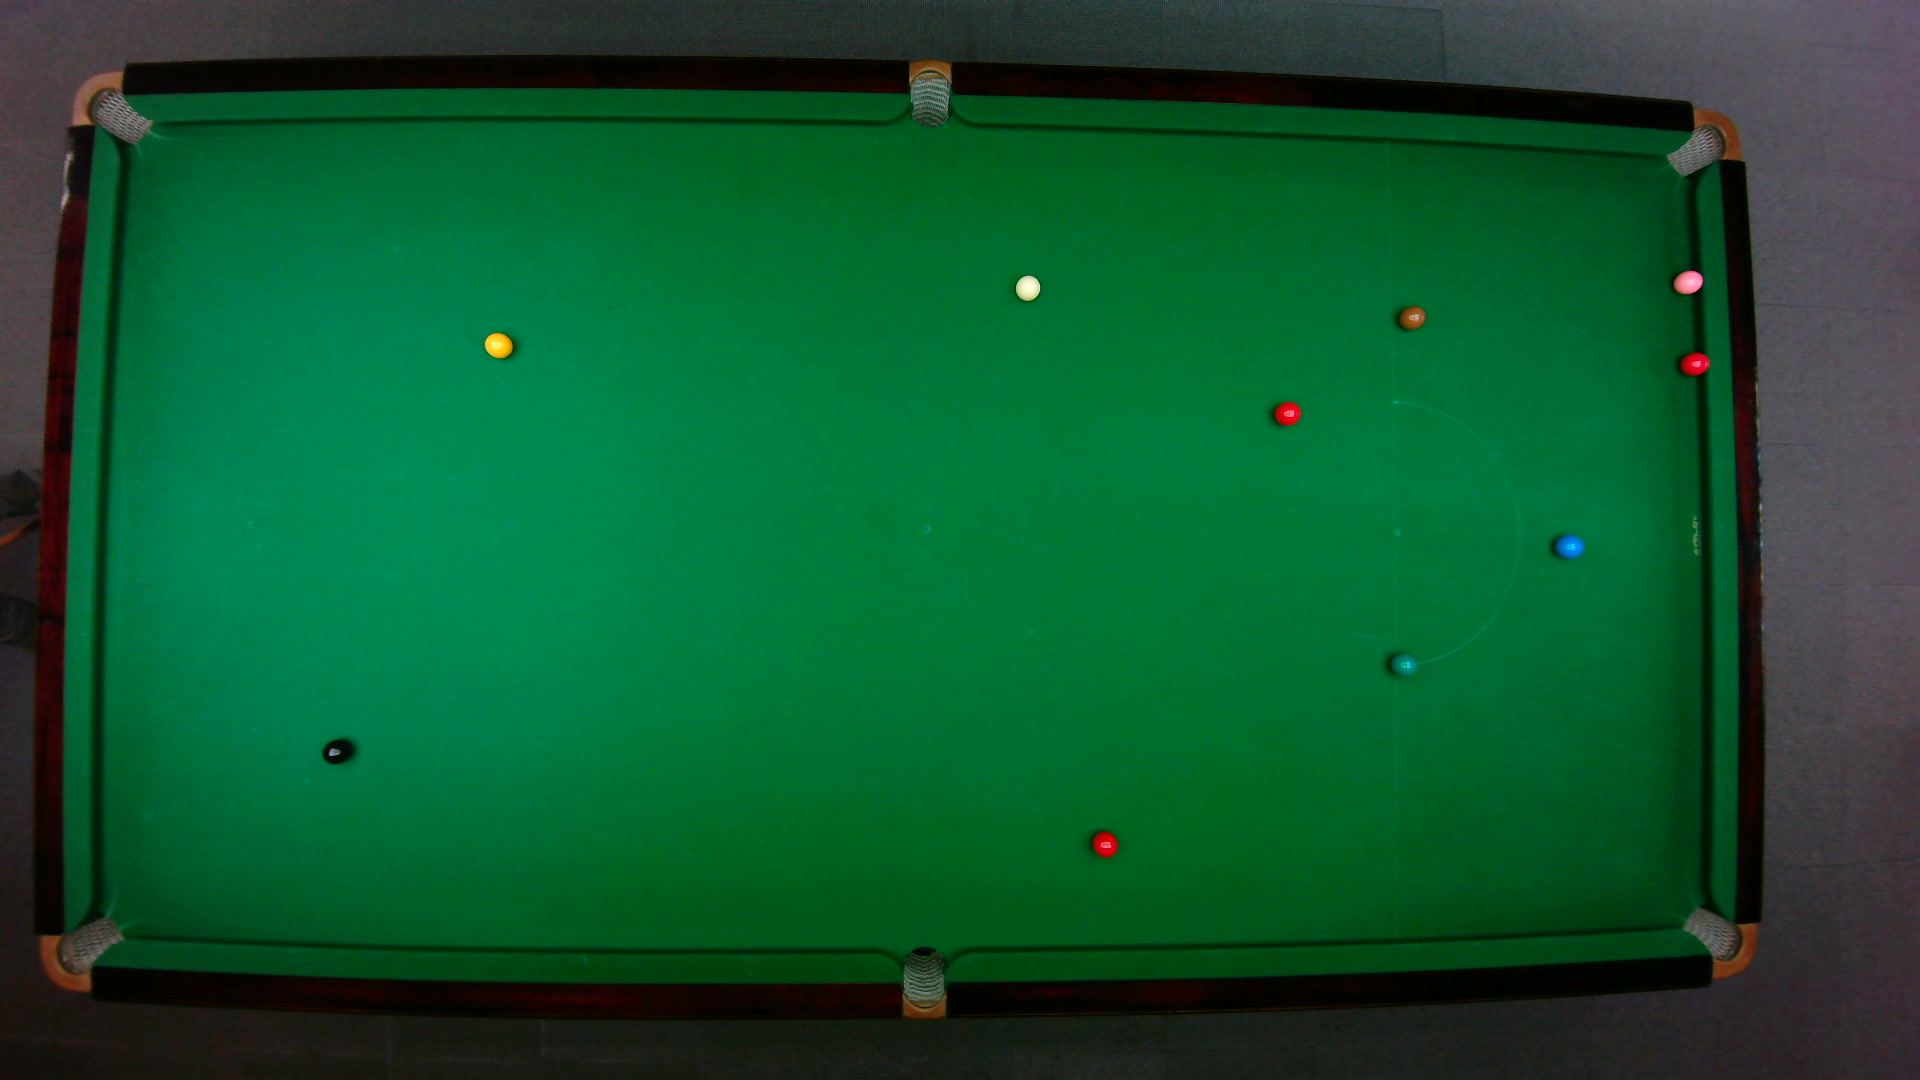bag: (38, 914, 125, 993), (69, 70, 152, 145), (1679, 905, 1756, 978), (1663, 107, 1741, 177), (901, 944, 945, 1021), (909, 57, 949, 127)
black: (320, 736, 352, 765)
blue: (1553, 531, 1585, 559)
brown: (1396, 305, 1427, 328)
green: (1389, 650, 1418, 676)
pink: (1671, 268, 1704, 295)
red: (1089, 828, 1120, 858), (1677, 349, 1712, 376), (1271, 400, 1303, 426)
white: (1011, 273, 1040, 301)
yellow: (481, 328, 513, 359)
zone: (1389, 400, 1520, 667)
